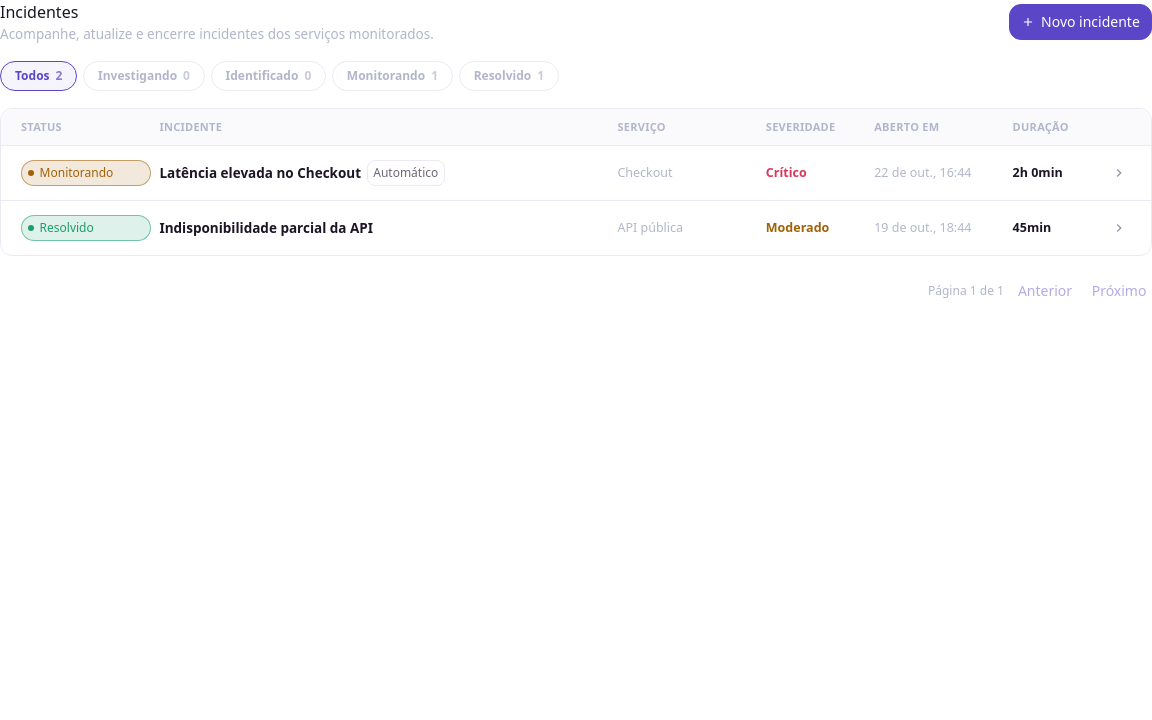
Test: IncidentsPage › resolved incident drawer shows banner and Reabrir button for managers
Click the text "Indisponibilidade parcial da API": (266, 228) [159,218,373,238]
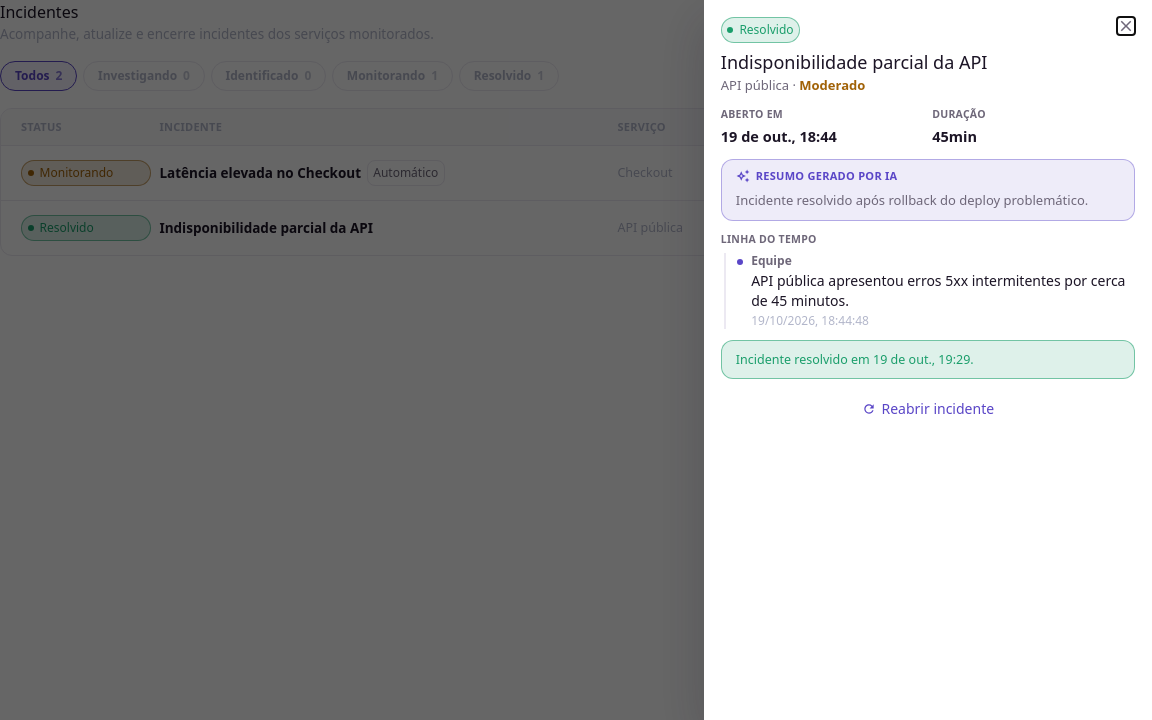
Check: the text "Incidente resolvido em 19 de out., 19:29." is shown, box [721,340,1135,380]
Check: the button "Reabrir incidente" is shown, box [721,391,1135,427]
